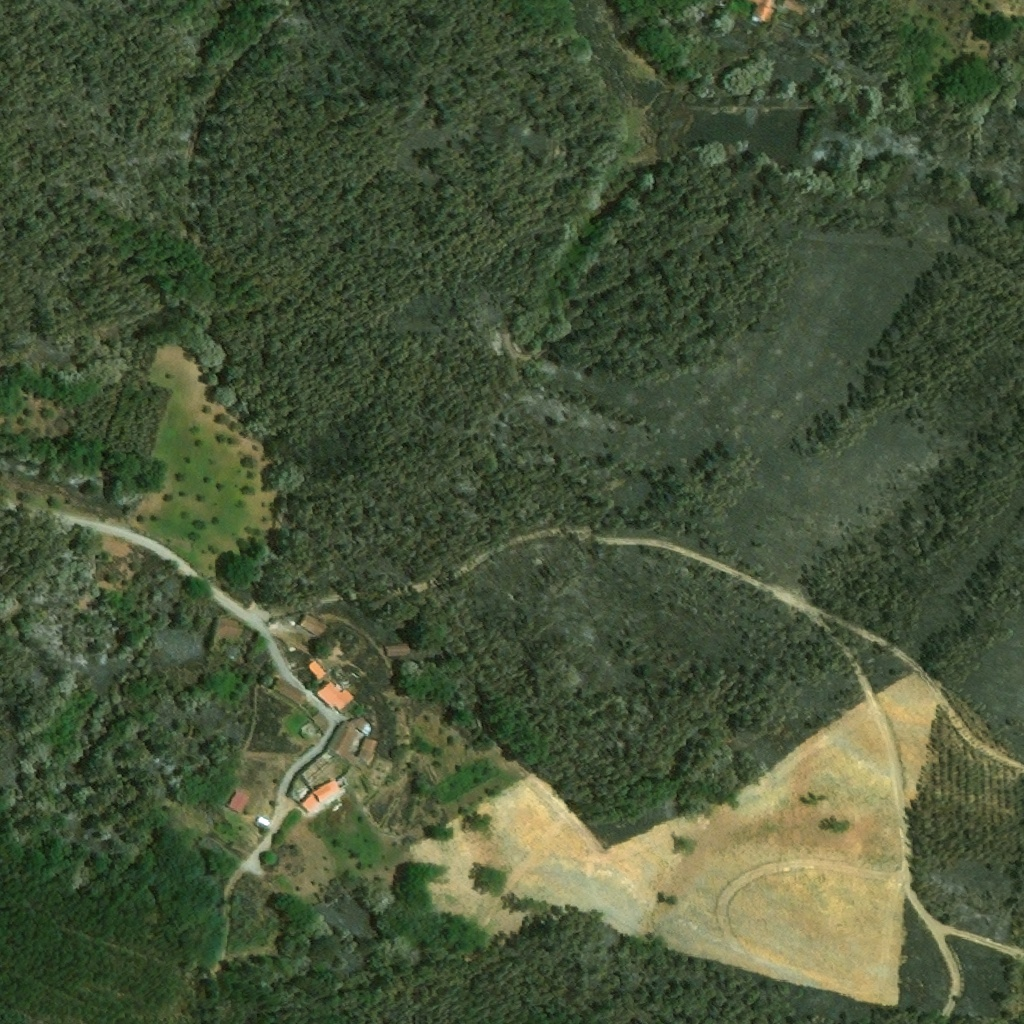0 no-damage: (325, 714, 381, 766), (298, 777, 346, 816), (206, 616, 244, 652), (316, 681, 356, 714), (273, 678, 306, 706), (296, 613, 324, 637), (225, 789, 249, 815), (306, 660, 331, 681), (312, 709, 332, 735), (384, 643, 410, 656)
4 un-classified: (751, 0, 778, 28), (781, 0, 809, 15), (718, 0, 727, 7)
